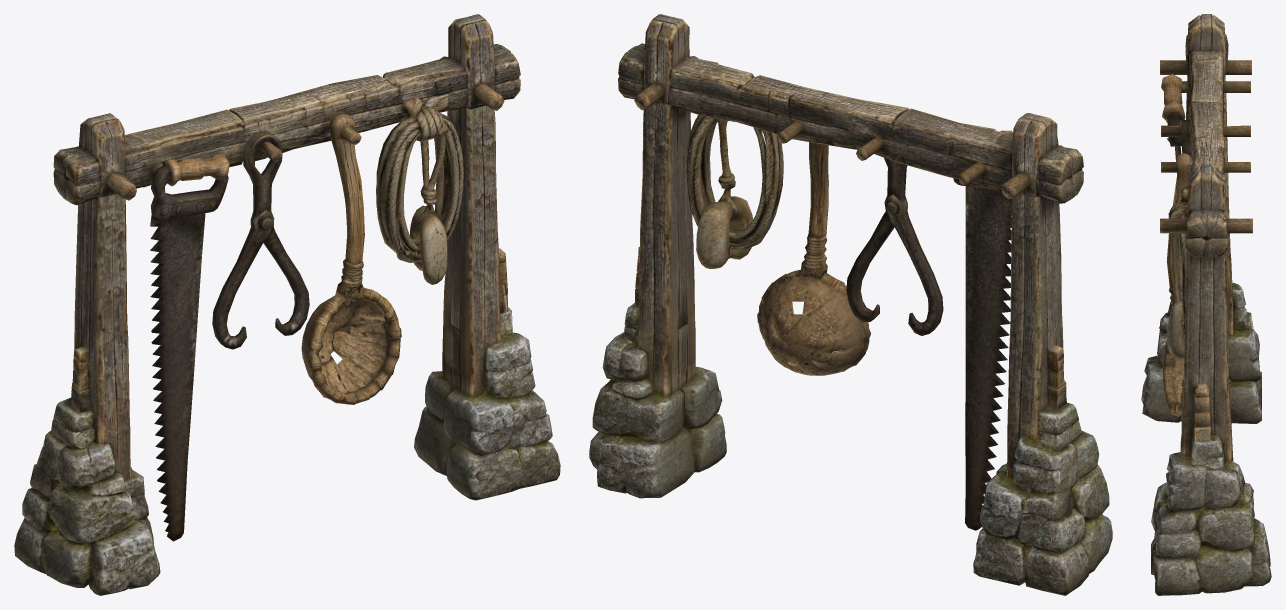
Rendered from kf_tool_rack.glb.
3 renders of one model, left to right at view 1: azimuth 30°, elevation 25°; view 2: azimuth 150°, elevation 25°; view 3: azimuth 270°, elevation 25°, orthographic. The views are drawn at different scales.
Parts seen in each view (by area): view 1: kf_tool_rack; view 2: kf_tool_rack; view 3: kf_tool_rack.
Boxes of the visible parts, left/top/right/bottom form: kf_tool_rack: left=14, top=14, right=560, bottom=595; kf_tool_rack: left=589, top=14, right=1112, bottom=595; kf_tool_rack: left=1141, top=14, right=1271, bottom=595.
Bounding box in the file's own units: 1.97 × 1.75 × 0.5138.
Materials: 1 (1 with a texture image).
